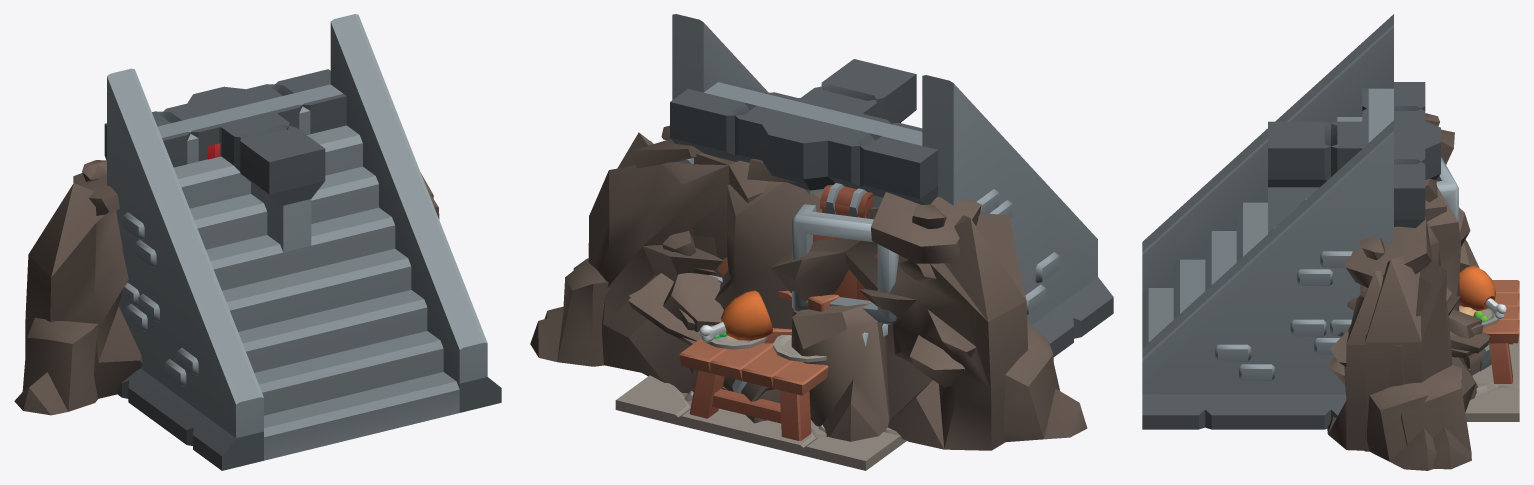
Rendered from kit_dungeon.glb.
3 views of the same model, side by side, from view 1: azimuth 30°, elevation 25°; view 2: azimuth 150°, elevation 25°; view 3: azimuth 270°, elevation 25° (orthographic). The views are drawn at different scales.
Parts seen in each view (by area): view 1: stairs, rubble_large, wall_corner, wall_arched, pillar_decorated; view 2: rubble_large, rubble_half, stairs, table_long_decorated_A, box_stacked, floor_tile_large_rocks, wall_arched, wall, pillar, wall_corner, wall_half, floor_tile_large (+1 smaller); view 3: stairs, rubble_half, rubble_large, wall_corner, table_long_decorated_A, wall_arched, wall, floor_tile_large_rocks, pillar, box_stacked, floor_dirt_large.
Part boxes in pixels (x1,y1,x2,y2): stairs: (107, 14, 501, 470); rubble_large: (14, 160, 439, 415); wall_corner: (187, 114, 325, 252); wall_arched: (104, 69, 346, 167); pillar_decorated: (188, 86, 277, 129); rubble_large: (544, 141, 1087, 450); rubble_half: (530, 125, 767, 393); stairs: (672, 14, 1113, 357); table_long_decorated_A: (679, 290, 828, 440); box_stacked: (710, 183, 898, 423); floor_tile_large_rocks: (616, 375, 904, 469); wall_arched: (670, 79, 937, 204); wall: (726, 93, 930, 204); pillar: (758, 95, 863, 188); wall_corner: (801, 59, 924, 207); wall_half: (670, 102, 761, 162); floor_tile_large: (615, 400, 906, 470); stairs: (1142, 14, 1393, 429); rubble_half: (1345, 197, 1489, 469); rubble_large: (1327, 113, 1490, 470); wall_corner: (1268, 106, 1415, 232); table_long_decorated_A: (1459, 265, 1519, 384); wall_arched: (1362, 82, 1425, 227); wall: (1362, 82, 1425, 228); floor_tile_large_rocks: (1465, 334, 1519, 414); pillar: (1346, 121, 1440, 180); box_stacked: (1436, 157, 1491, 375); floor_dirt_large: (1465, 383, 1519, 421).
Size of the model in its own units: 8.13 by 5.89 by 6.
Materials: 1 (1 with a texture image).
